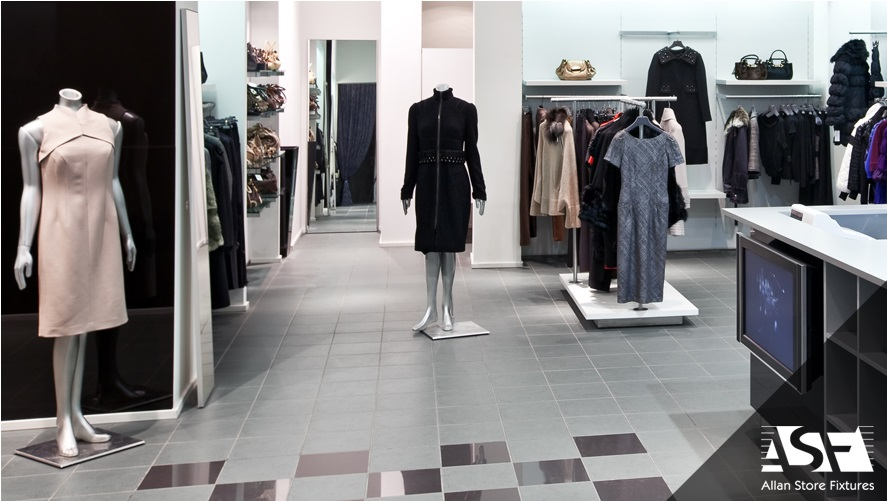person-like: (8, 82, 148, 462), (396, 78, 492, 335)
